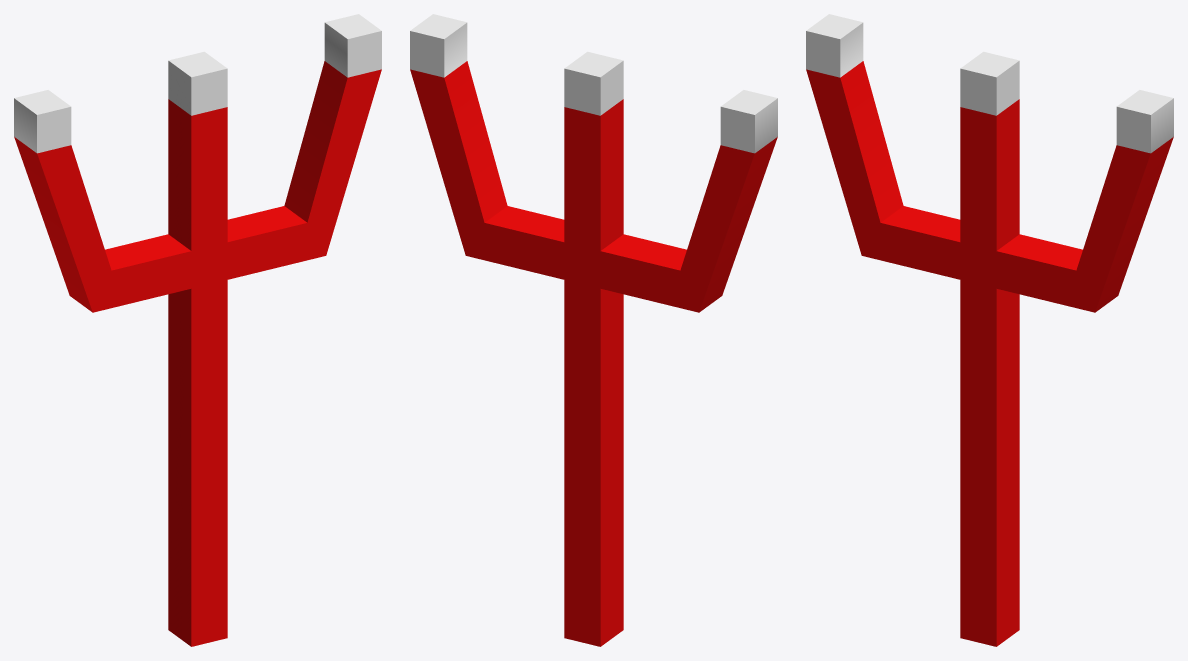
File: RoadLightA.fbx
The picture shows the model from 3 angles, left to right: view 1: azimuth 30°, elevation 25°; view 2: azimuth 150°, elevation 25°; view 3: azimuth 330°, elevation 25°; orthographic projection.
Parts seen in each view (by area): view 1: RoadLightA; view 2: RoadLightA; view 3: RoadLightA.
Part boxes in pixels (bbox=[...]): RoadLightA: bbox=[14, 14, 381, 646]; RoadLightA: bbox=[410, 14, 777, 646]; RoadLightA: bbox=[806, 14, 1173, 646].
Size of the model in its own units: 143 by 225 by 16.56.
Materials: 1 (1 with a texture image).
